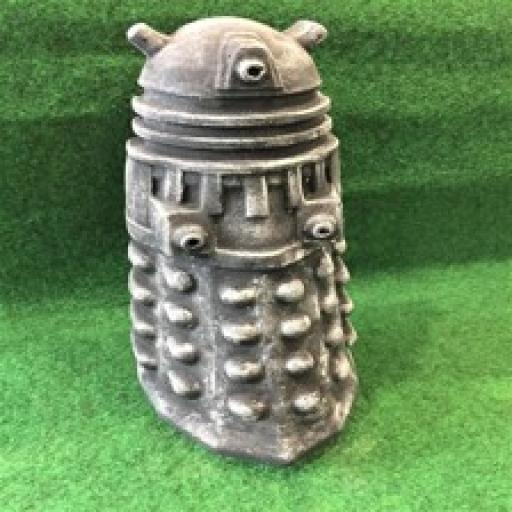dalek: (117, 10, 370, 469)
